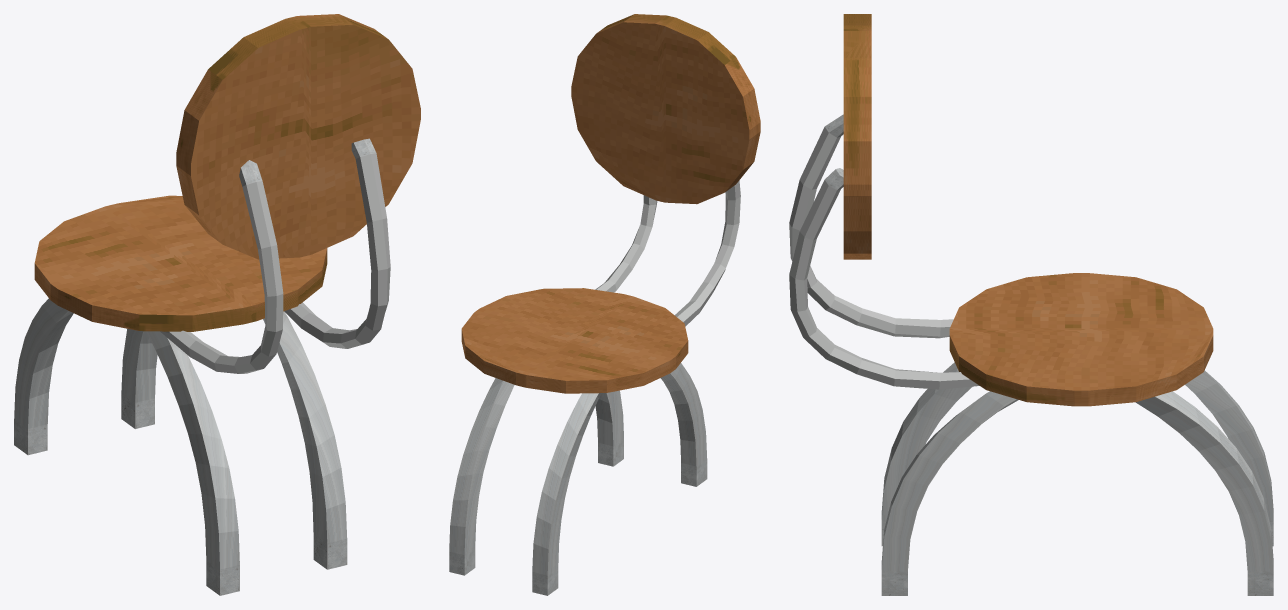
The model's file is Sedia_Cerchio_3.fbx.
3 views of the same model, side by side, from view 1: azimuth 30°, elevation 25°; view 2: azimuth 150°, elevation 25°; view 3: azimuth 270°, elevation 25° (orthographic). The views are drawn at different scales.
Parts seen in each view (by area): view 1: Cube.099; view 2: Cube.099; view 3: Cube.099.
Boxes of the visible parts, x1,y1,x2,y2 form: Cube.099: [14, 14, 420, 595]; Cube.099: [449, 14, 760, 595]; Cube.099: [789, 14, 1273, 595].
Bounding box in the file's own units: 0.6132 × 1.31 × 1.07.
Materials: 2 (2 with a texture image).
